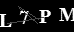7: (18, 10, 29, 25)
L: (1, 12, 12, 28)
M: (57, 7, 74, 22)
P: (38, 9, 51, 24)
